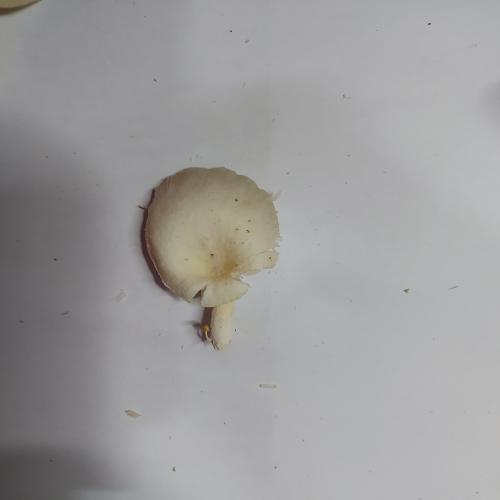Oyster Mushroom: (140, 166, 282, 351)
